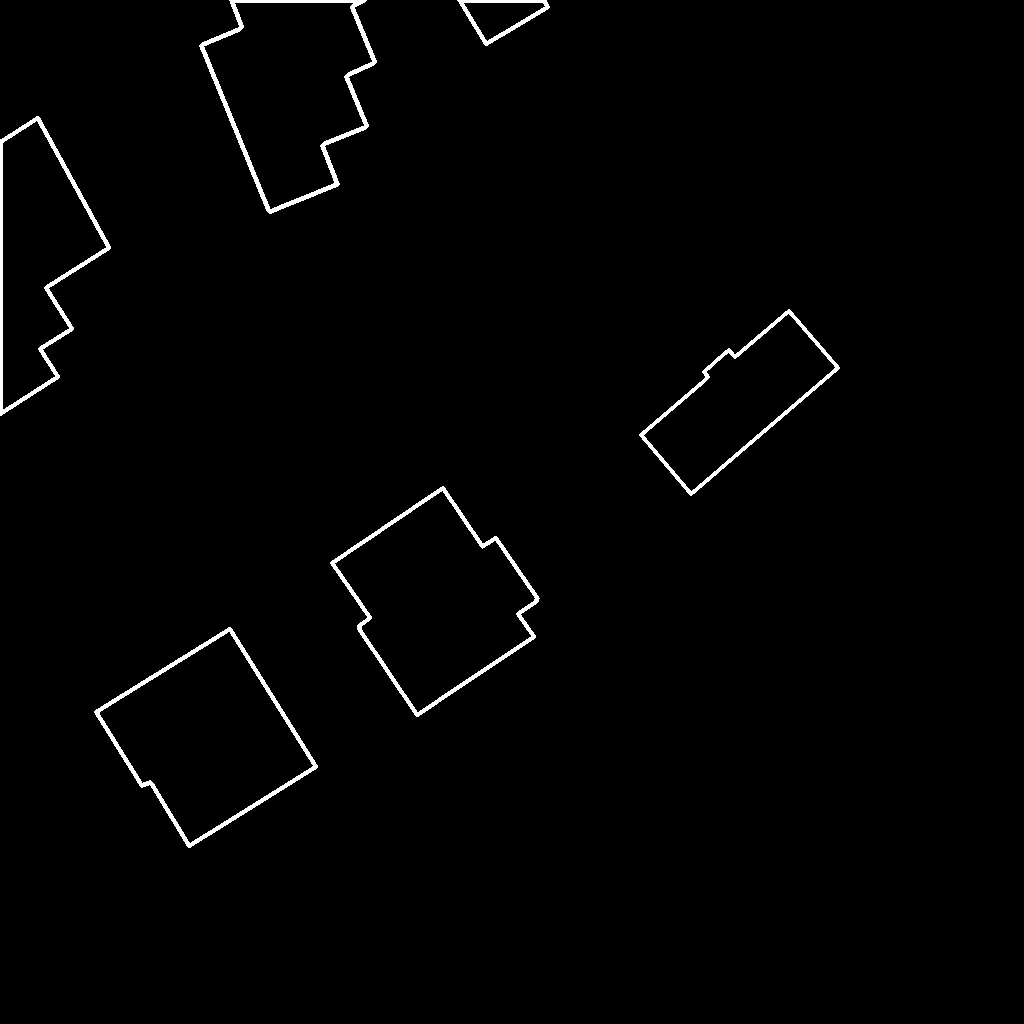building: (96, 629, 317, 847), (332, 488, 539, 716), (201, 0, 376, 213), (641, 311, 839, 495), (0, 118, 110, 415), (459, 0, 549, 45)
